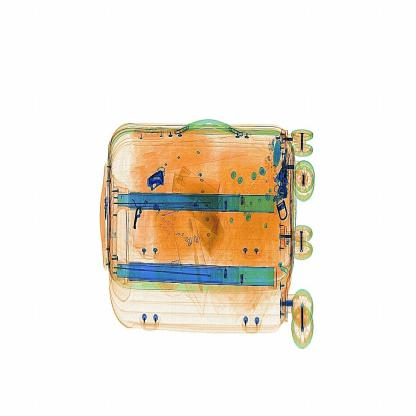knife: (146, 166, 166, 192)
